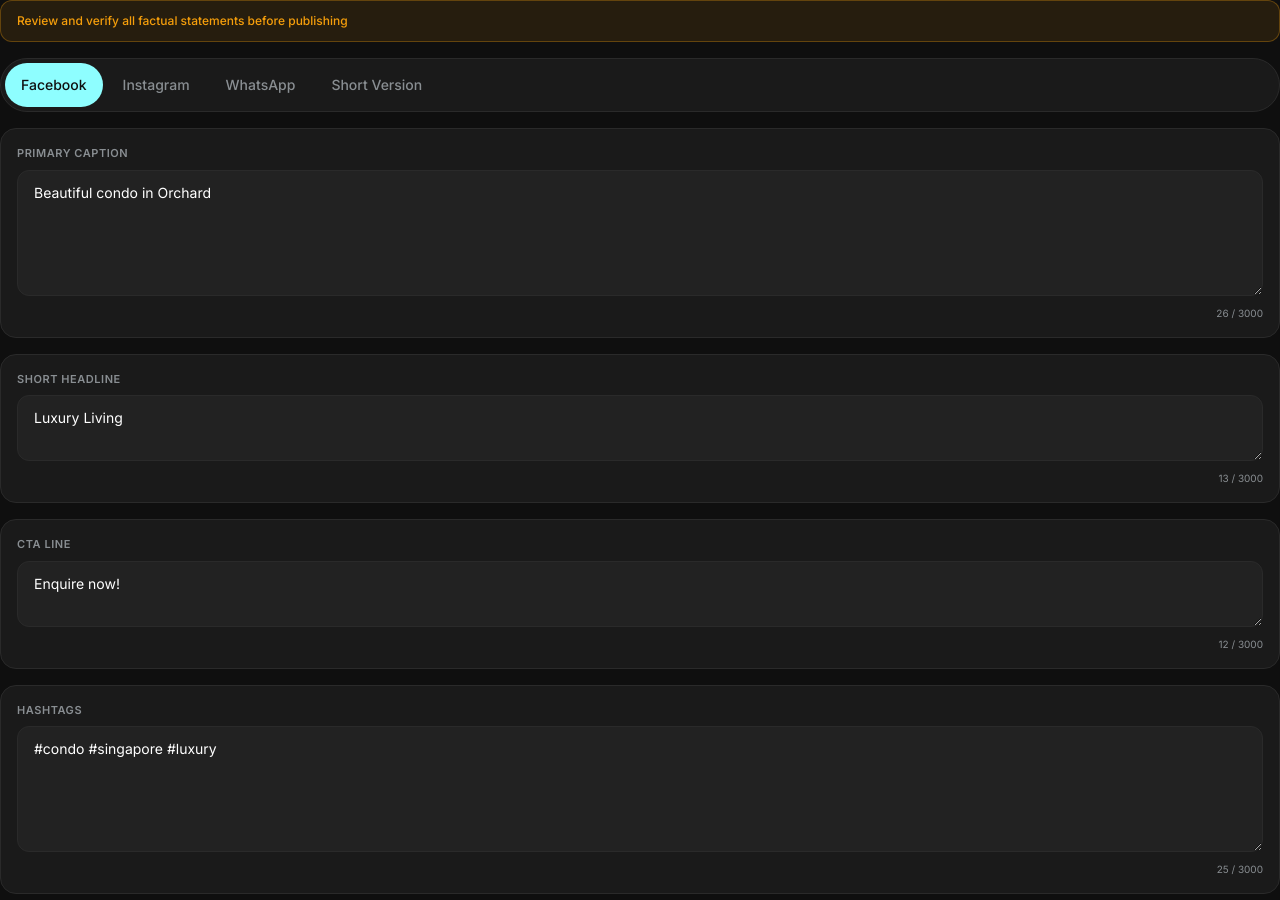
Test: CopyOutputPanel › Variant labels display (Req 5.3) › displays variant type labels for Short Version tab
The image size is (1280, 900).
Click the tab "Short Version" at (377, 85), box [315,63,438,107]
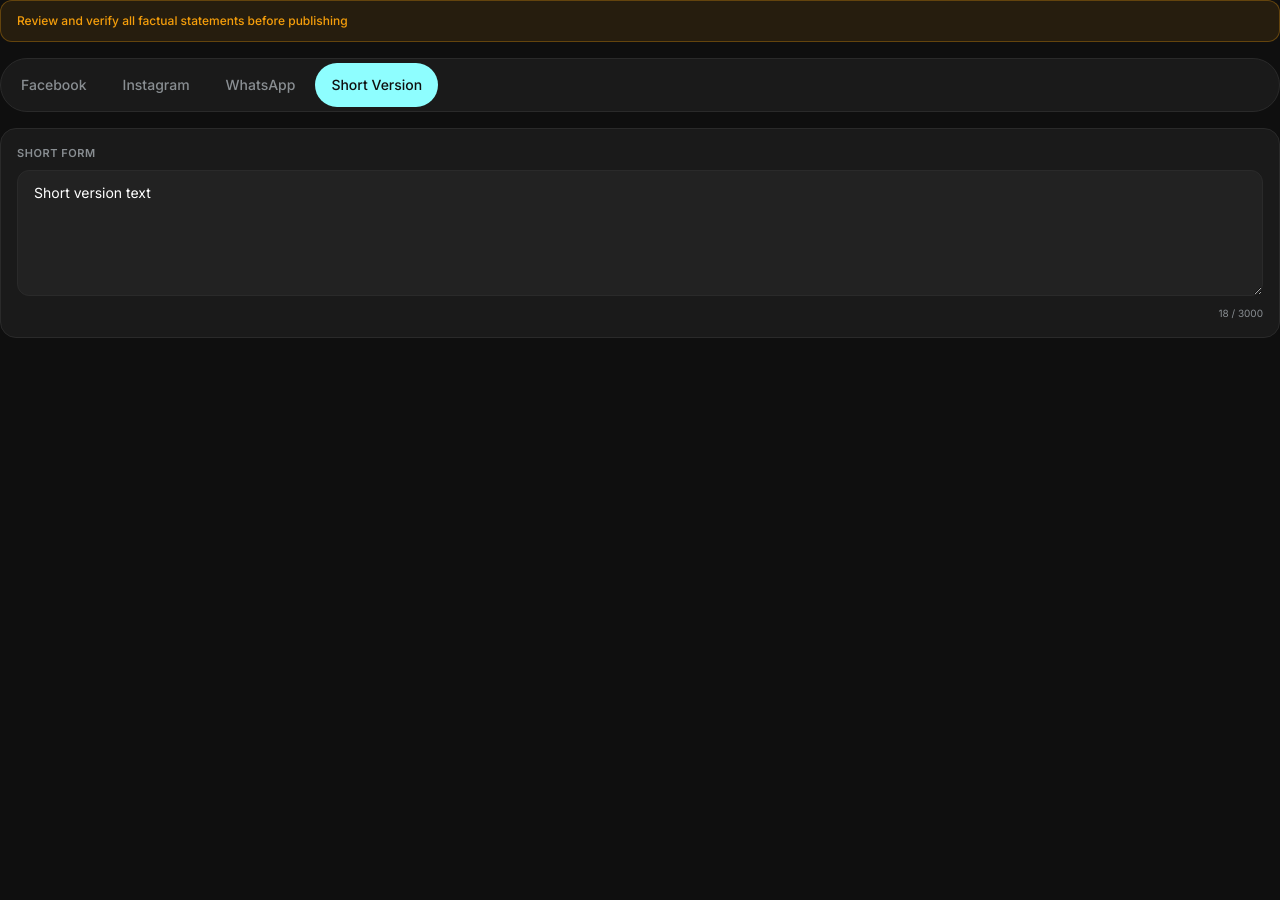
Check: the text "Short Form" is shown, box [17,146,96,160]
